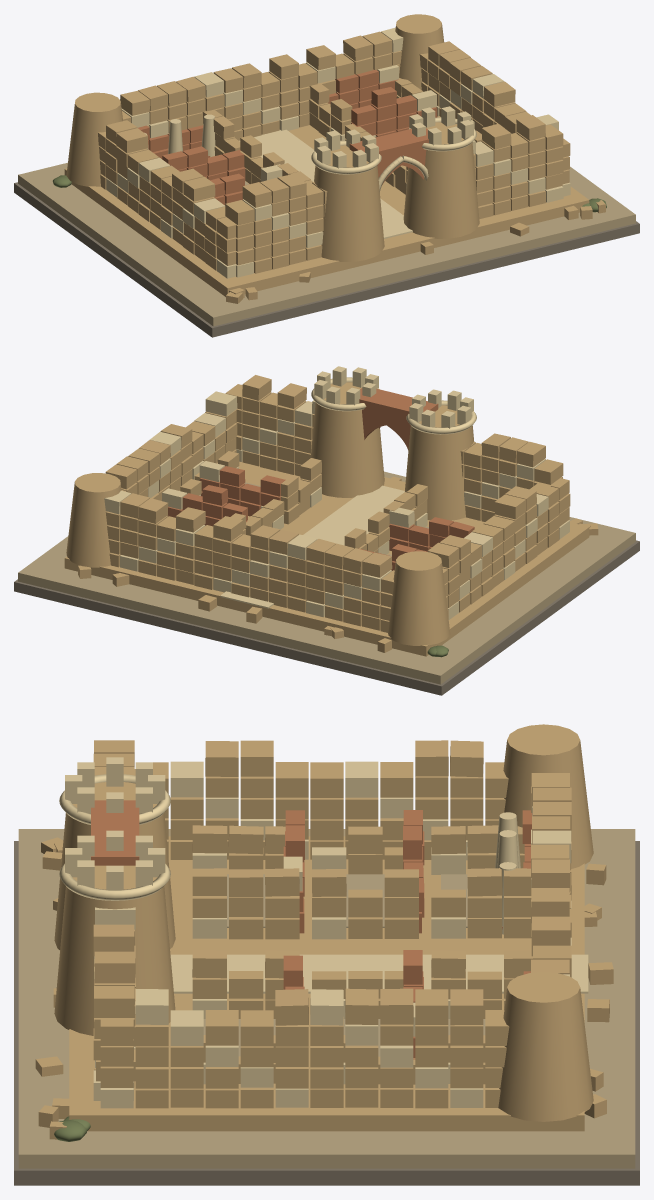
File: otrar.glb
The picture shows the model from 3 angles, top to bottom: view 1: azimuth 30°, elevation 25°; view 2: azimuth 150°, elevation 25°; view 3: azimuth 270°, elevation 25°; orthographic projection. The views are drawn at different scales.
Parts seen in each view (by area): view 1: Warm limestone, Steppe earth, Carved pale limestone, Terracotta, Foundation edging; view 2: Warm limestone, Carved pale limestone, Steppe earth, Terracotta, Foundation edging; view 3: Warm limestone, Steppe earth, Carved pale limestone, Foundation edging, Terracotta.
Part boxes in pixels (left/top/right/bottom): Warm limestone: left=64, top=14, right=605, bottom=303; Steppe earth: left=18, top=162, right=635, bottom=326; Carved pale limestone: left=106, top=27, right=570, bottom=278; Terracotta: left=138, top=69, right=437, bottom=205; Foundation edging: left=14, top=182, right=639, bottom=337; Warm limestone: left=64, top=375, right=598, bottom=656; Carved pale limestone: left=104, top=366, right=569, bottom=619; Steppe earth: left=18, top=471, right=635, bottom=684; Terracotta: left=167, top=388, right=474, bottom=570; Foundation edging: left=14, top=540, right=639, bottom=695; Warm limestone: left=35, top=724, right=613, bottom=1139; Steppe earth: left=18, top=829, right=635, bottom=1168; Carved pale limestone: left=59, top=757, right=588, bottom=1108; Foundation edging: left=14, top=841, right=639, bottom=1185; Terracotta: left=91, top=800, right=532, bottom=1059.
Size of the model in its own units: 8.1 by 2.36 by 6.5.
